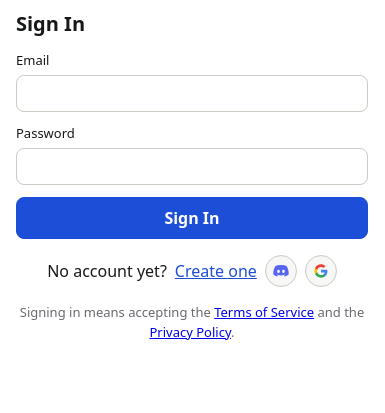
Test: failure is one neutral message
Step 1. Type "a@b.c" into the field labelled "Email" → (192, 93), box [16,74,368,112]
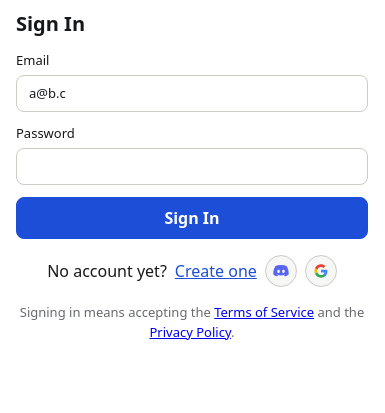
Step 2. Type "nope" into the password field labelled "Password" → (192, 166), box [16,148,368,185]
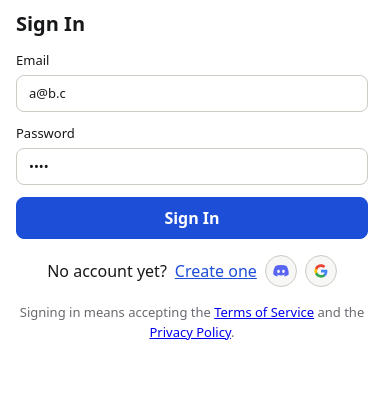
Step 3. Click the button "Sign In" → (192, 218), box [16,197,368,239]
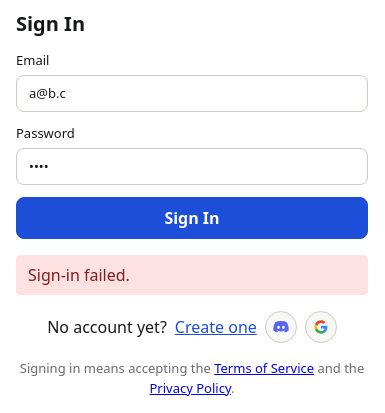
Check: the text "Sign-in failed." is shown, box [16,255,368,295]
